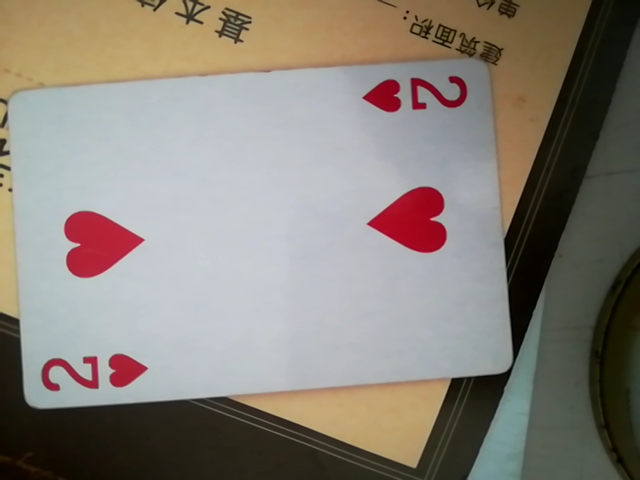hx 2: (8, 59, 511, 417)
